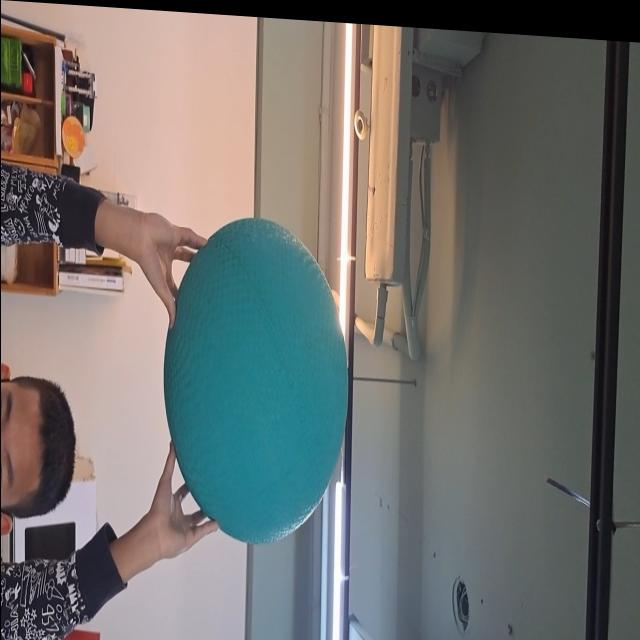ALGAE: (164, 212, 348, 550)
